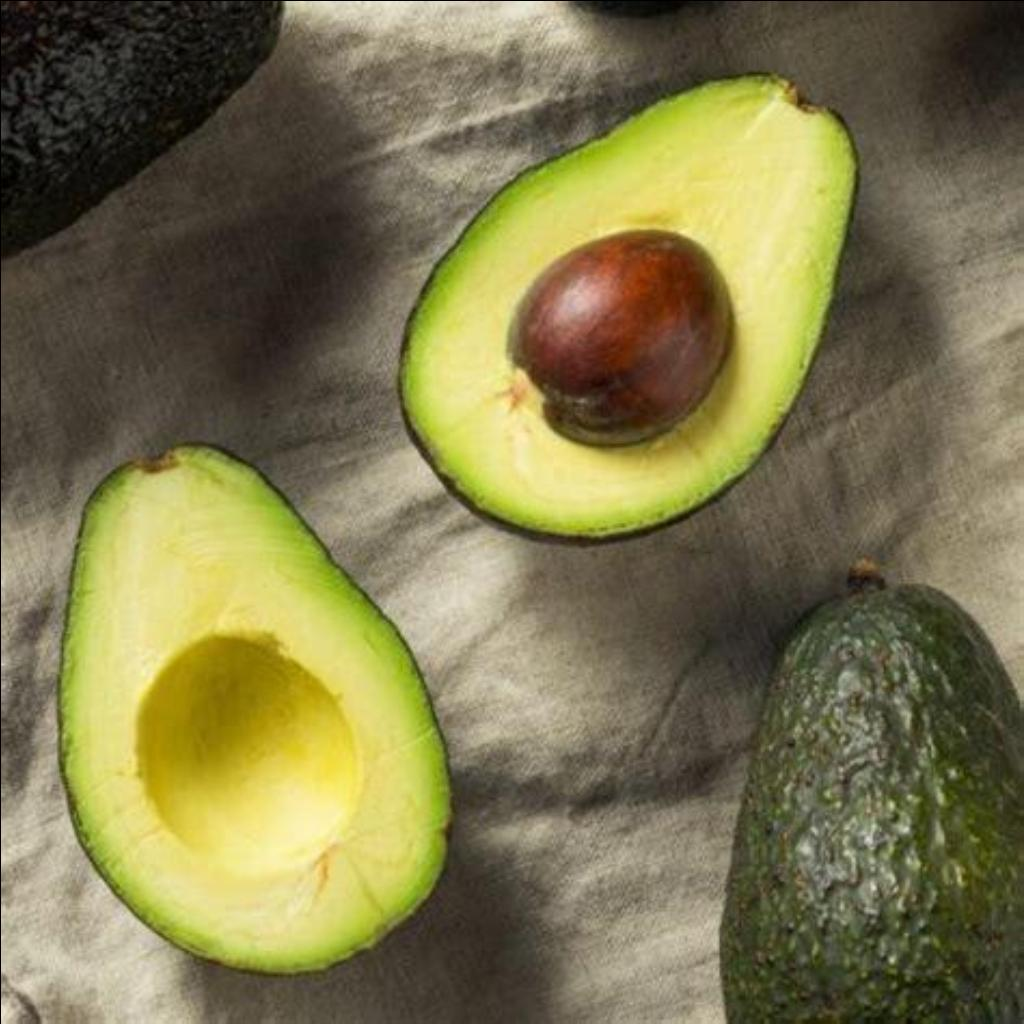Healthy: (8, 410, 476, 986), (419, 38, 853, 534), (684, 550, 1024, 1020)
